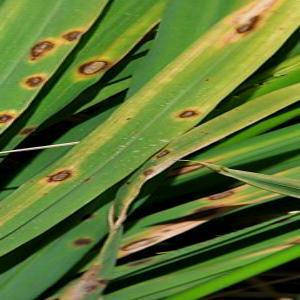0 BrownSpot: (206, 1, 283, 43), (64, 50, 115, 90), (21, 32, 62, 68), (14, 65, 52, 98), (116, 231, 167, 255), (166, 99, 209, 127), (40, 162, 80, 190), (54, 20, 90, 49), (203, 184, 240, 208), (1, 102, 22, 137), (62, 232, 100, 251), (149, 142, 176, 162), (136, 163, 161, 182), (82, 174, 95, 185), (121, 115, 135, 125), (122, 180, 135, 189), (26, 178, 37, 187), (42, 190, 53, 199), (203, 74, 212, 84)
